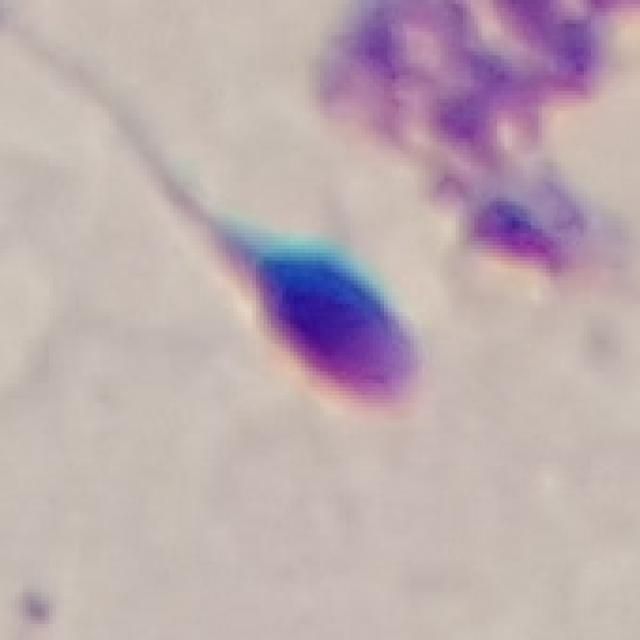normal sperm: (143, 180, 424, 420)
